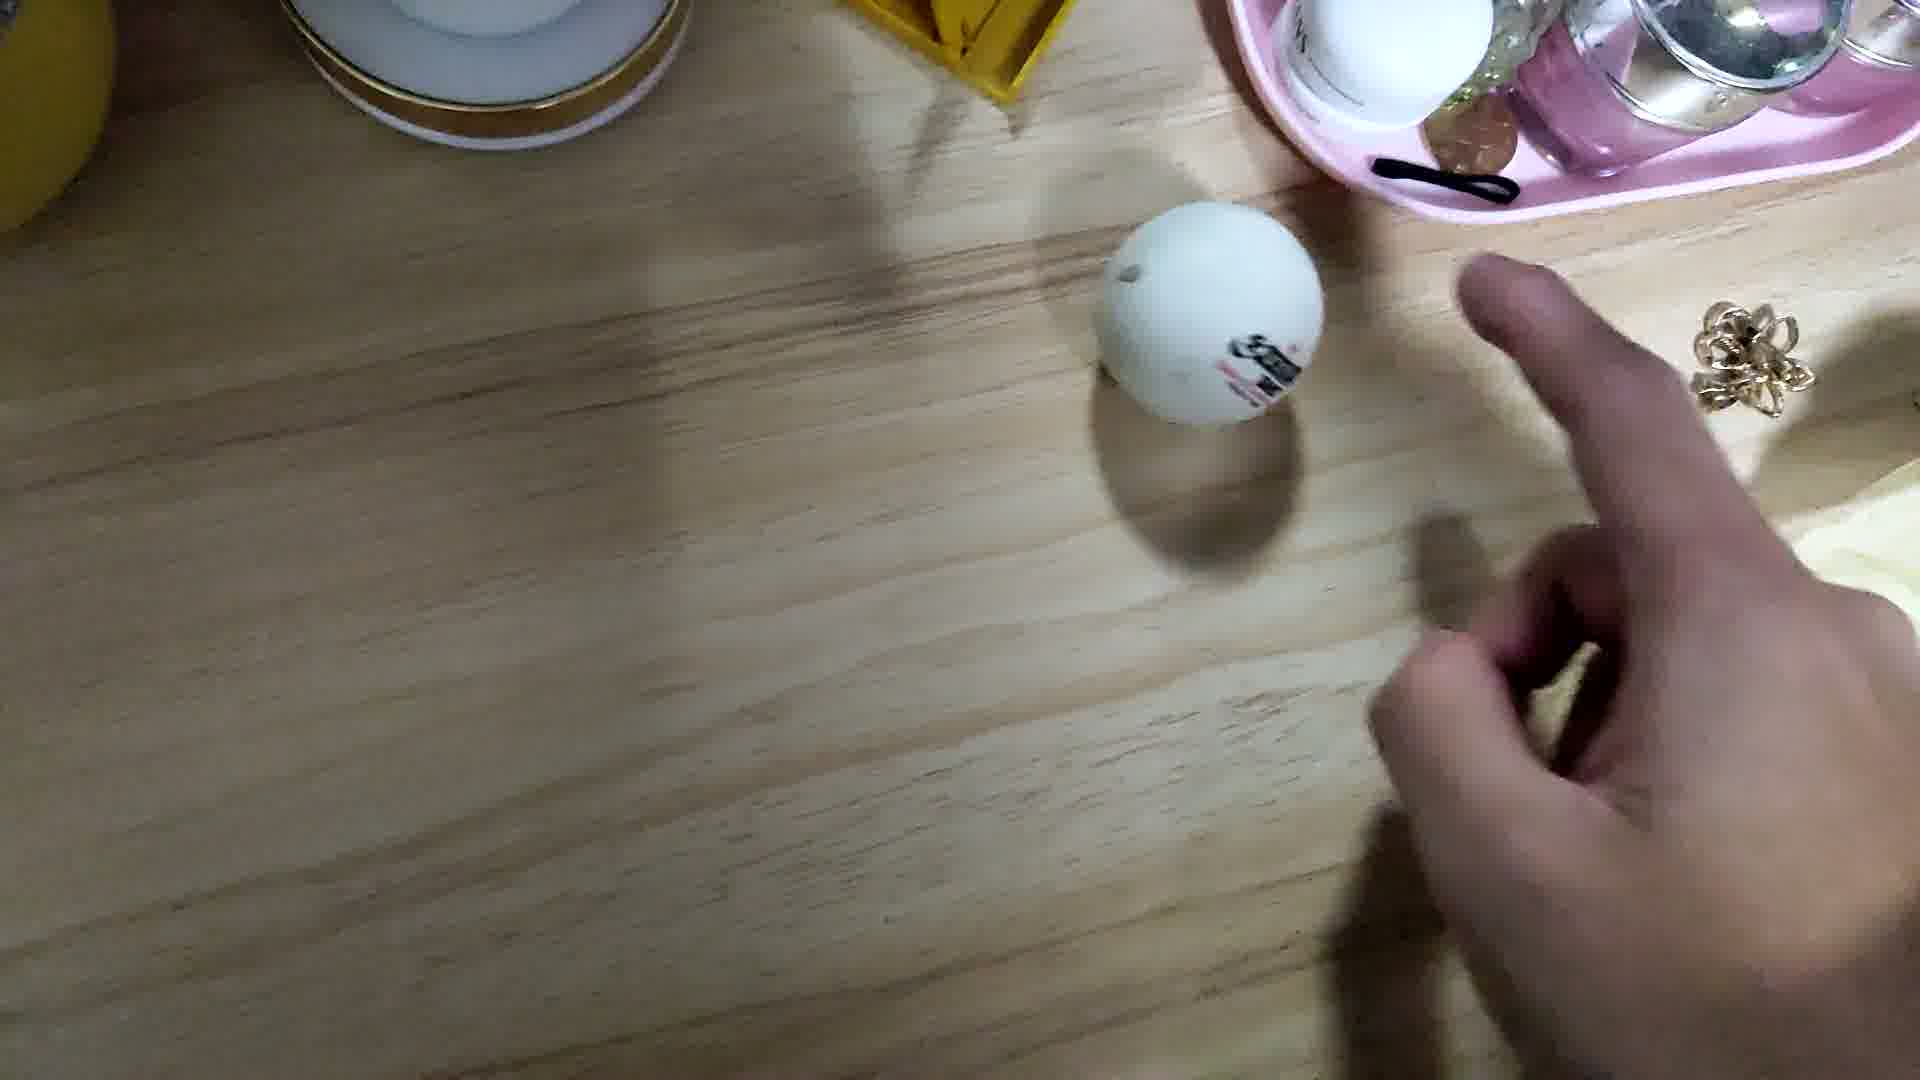Ball: (1104, 200, 1325, 427)
